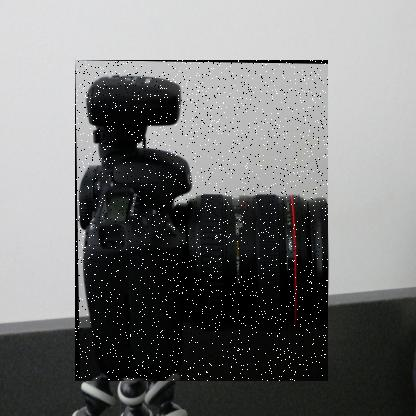Camera: (76, 61, 330, 383)
